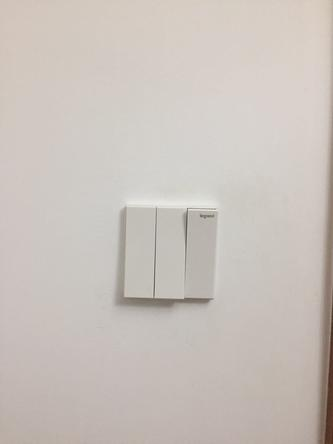switch: (128, 210, 157, 298), (163, 205, 189, 301), (194, 212, 215, 298)
